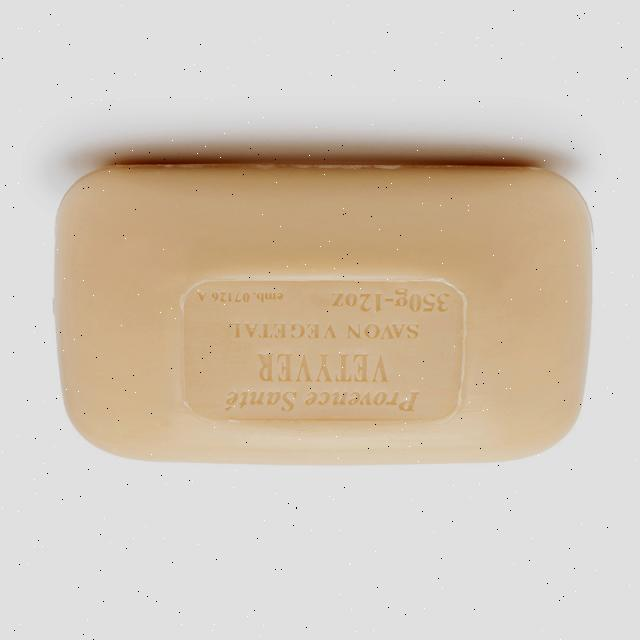soap: (53, 142, 601, 481)
